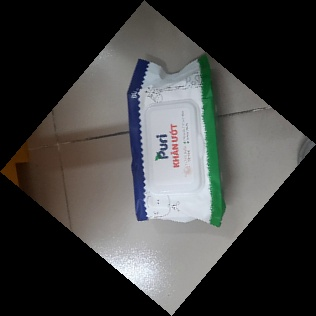Puri Trang: (124, 47, 230, 231)
